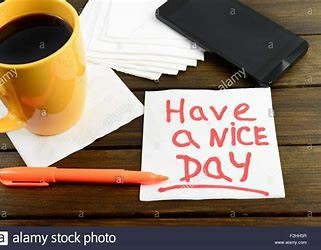pen: (1, 163, 172, 190)
